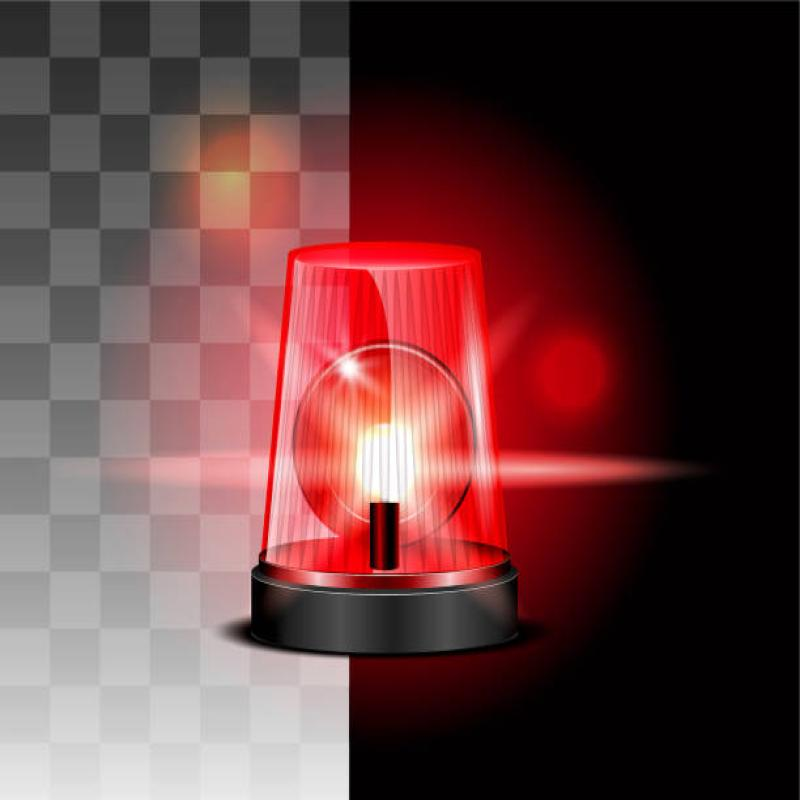AmbulanceSiren: (201, 166, 601, 674)
